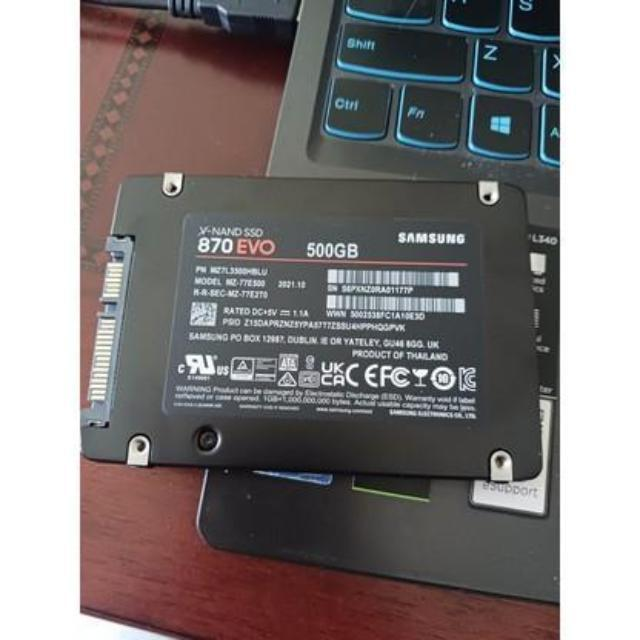DISK: (79, 168, 542, 494)
